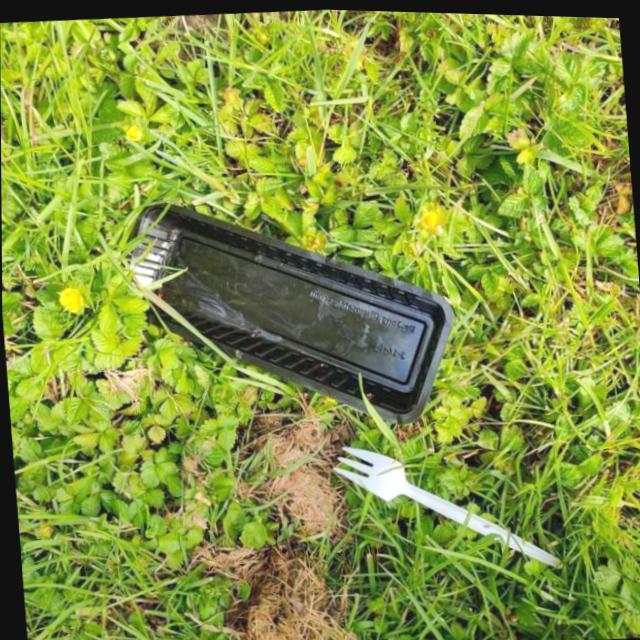Plastic: (111, 177, 460, 444), (308, 430, 584, 587)
